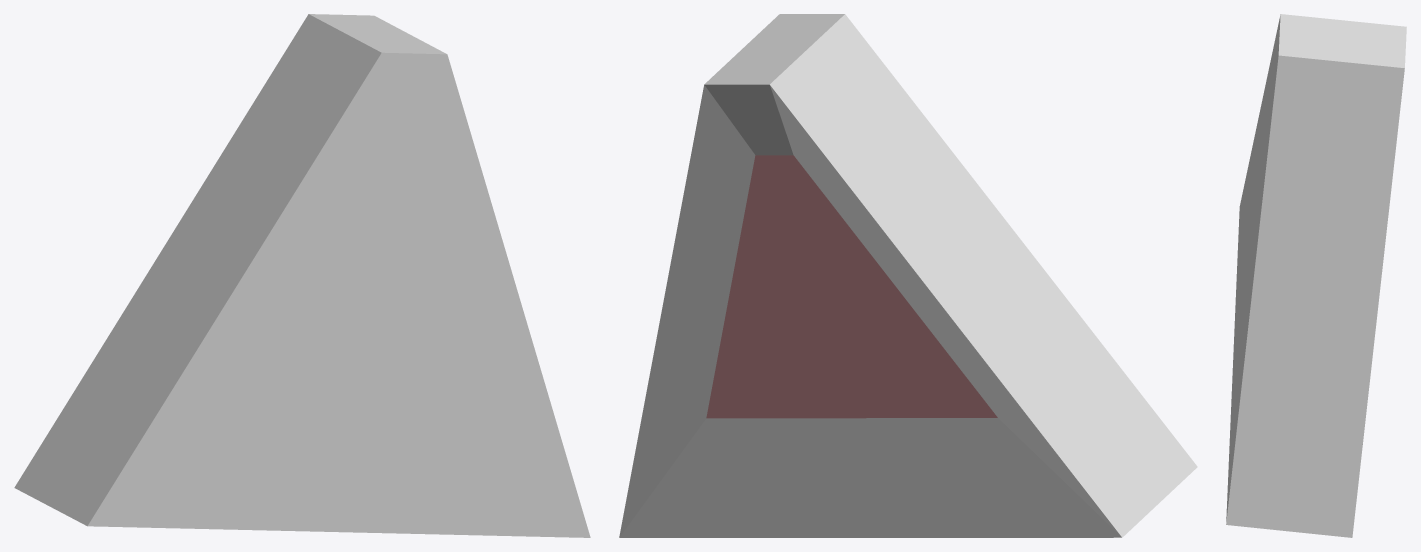
Rendered from kiiroear_r.obj.
The picture shows the model from 3 angles, left to right: view 1: azimuth 30°, elevation 25°; view 2: azimuth 150°, elevation 25°; view 3: azimuth 270°, elevation 25°; orthographic projection. The views are drawn at different scales.
Parts seen in each view (by area): view 1: kiiroear_r; view 2: kiiroear_r; view 3: kiiroear_r.
Boxes of the visible parts, x1,y1,x2,y2 form: kiiroear_r: [14, 14, 590, 537]; kiiroear_r: [619, 14, 1197, 537]; kiiroear_r: [1226, 14, 1406, 537].
Bounding box in the file's own units: 0.1787 × 0.1794 × 0.0654.
